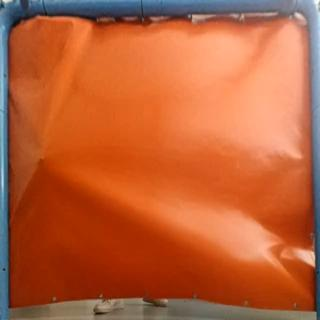Hit-hRxx: (35, 153, 47, 165)
